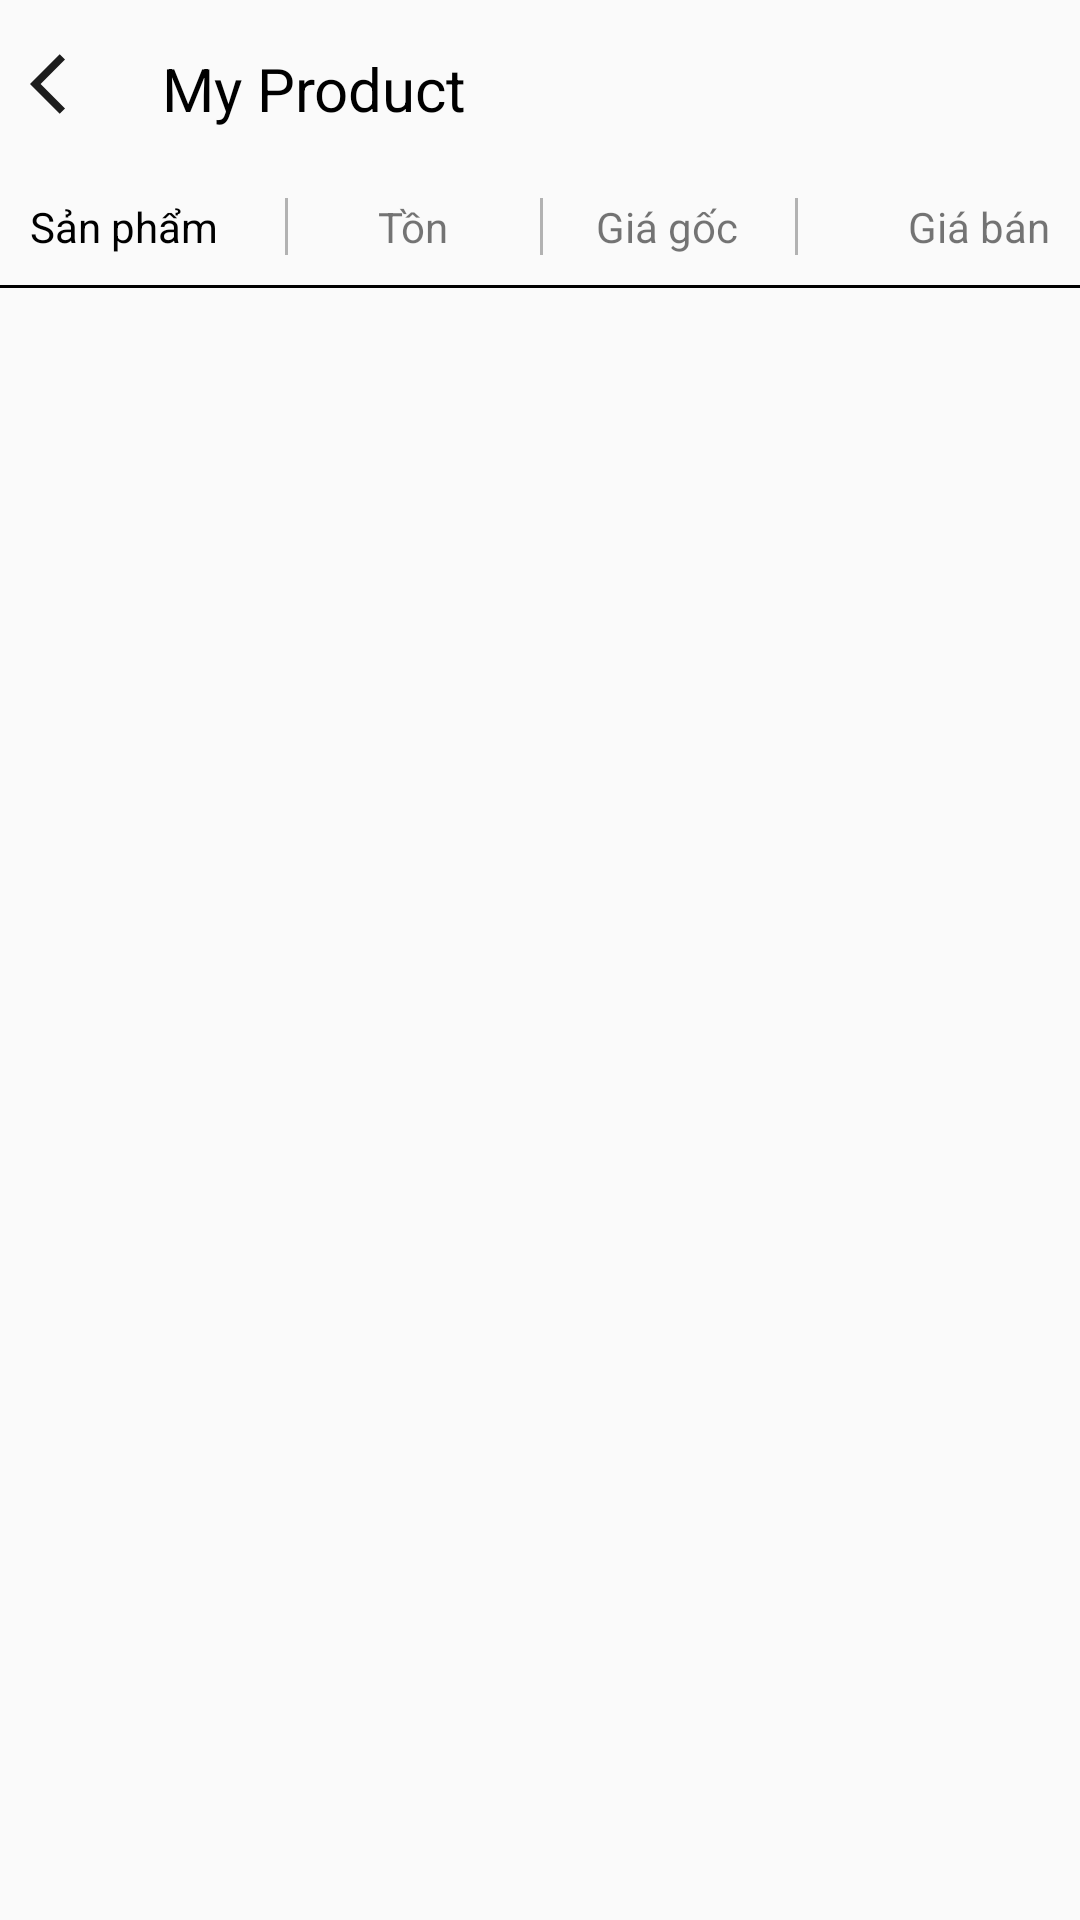

Icon click points for this 1080px×1920px phone screenshot, format point (x, y):
arrow back: point (47, 84)
